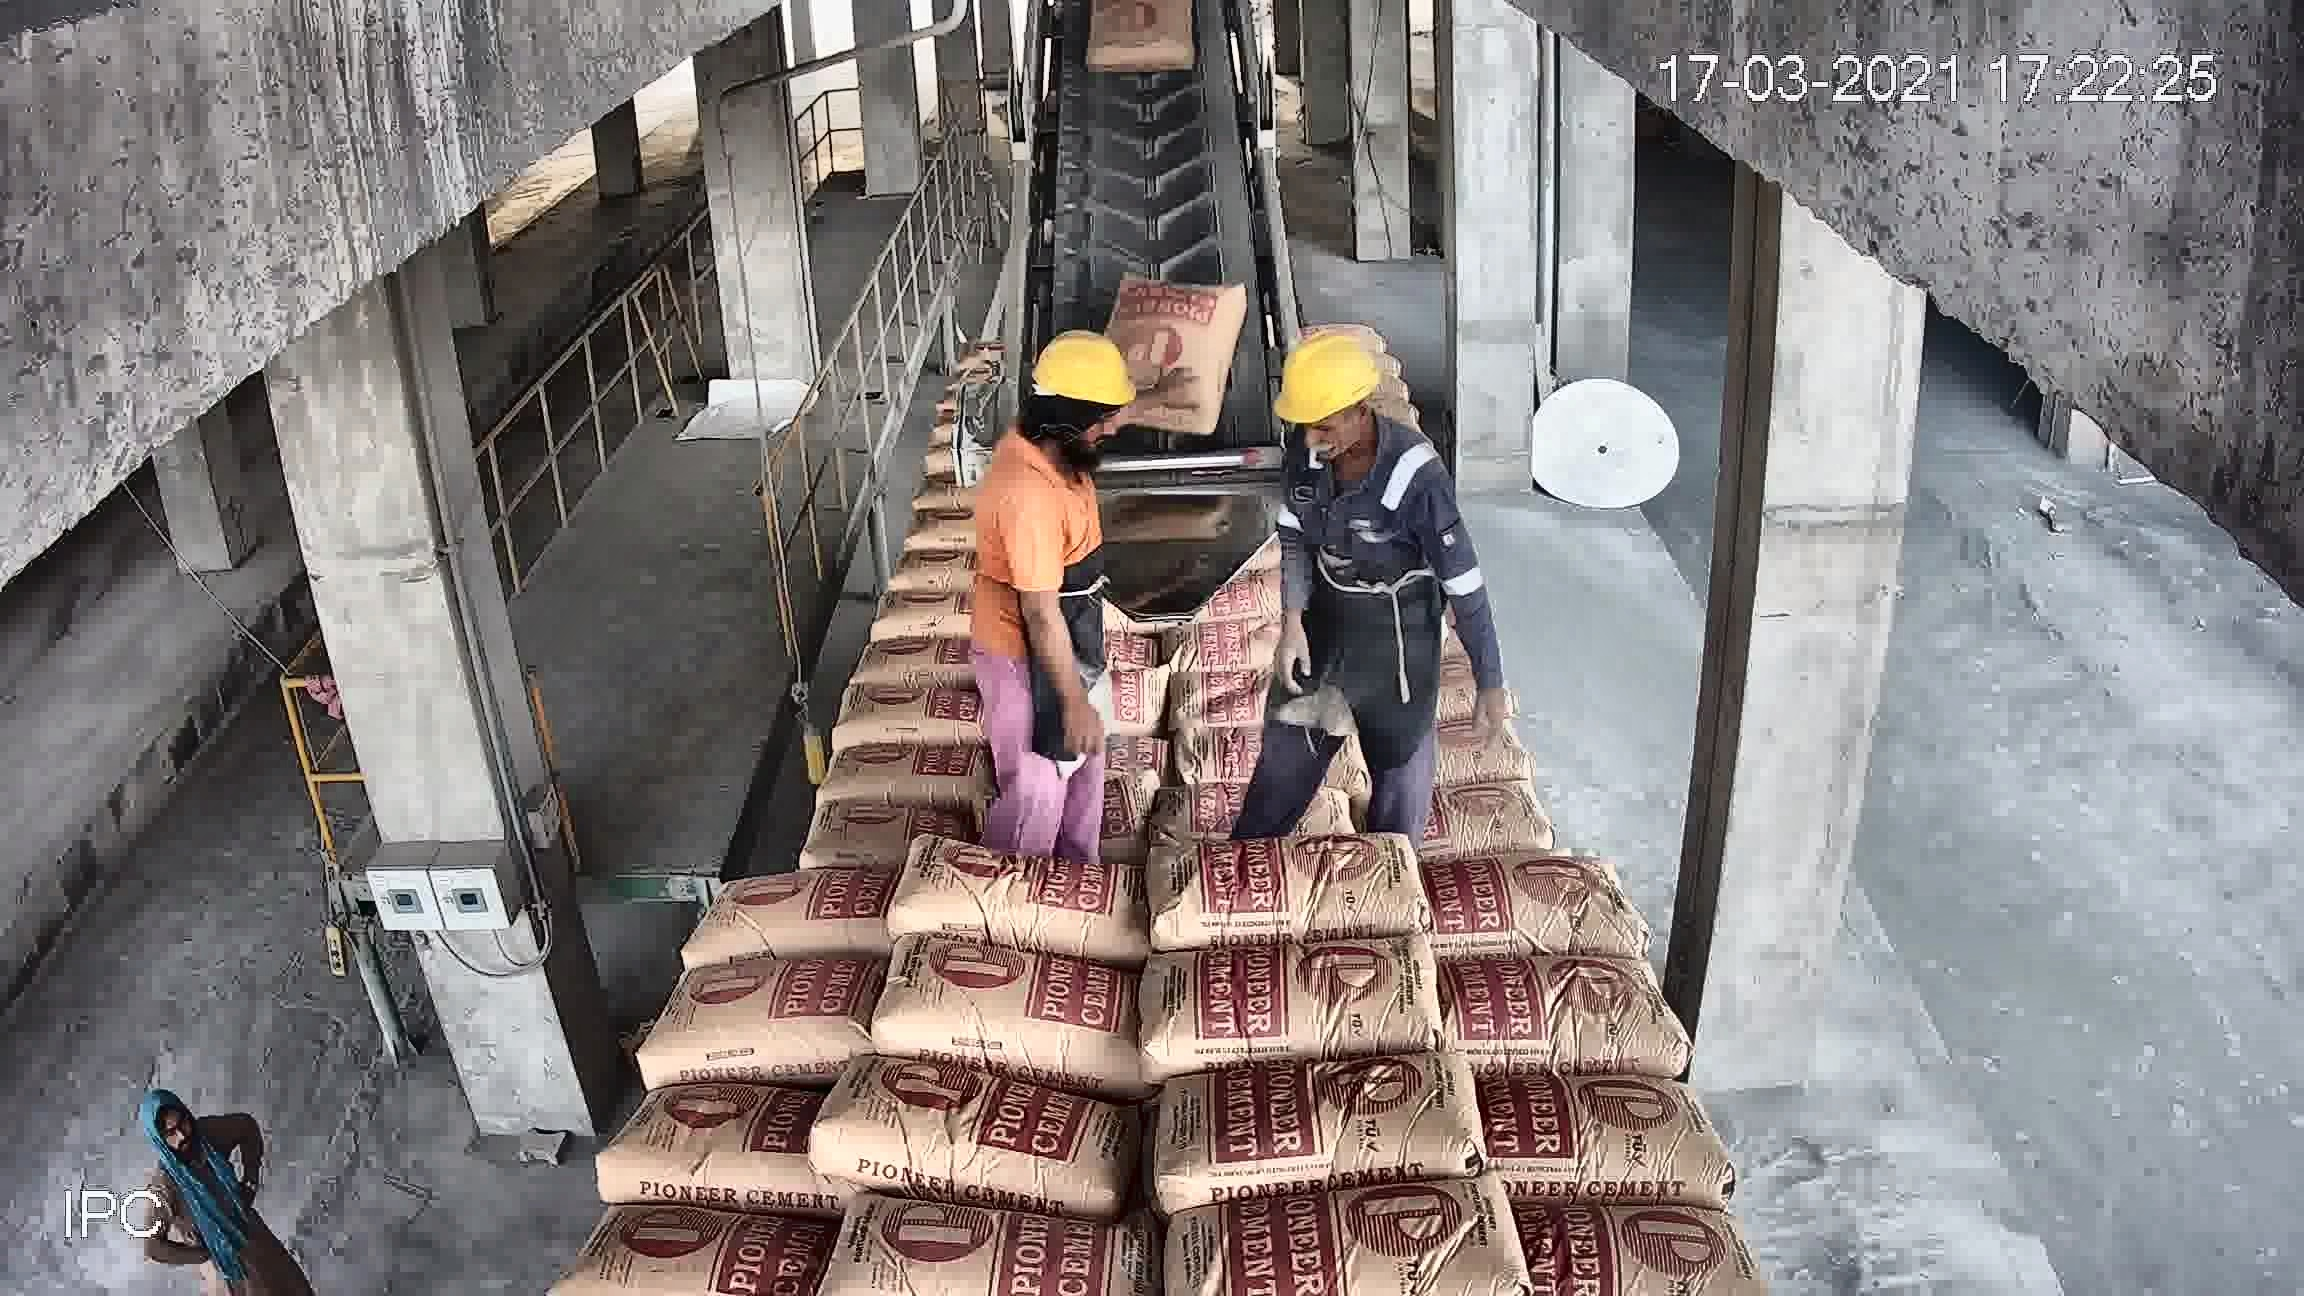bag: (1082, 17, 1195, 54)
bag_h: (1111, 919, 1456, 1092), (1173, 1048, 1475, 1217), (1160, 1163, 1502, 1296), (1100, 824, 1404, 961), (820, 1086, 1127, 1199), (873, 961, 1135, 1092), (1163, 729, 1396, 869), (873, 855, 1157, 961), (824, 1207, 1139, 1296), (1499, 1060, 1696, 1199), (1459, 943, 1657, 1078), (587, 1089, 823, 1201), (888, 763, 1138, 862), (639, 972, 862, 1081), (1521, 1185, 1755, 1283), (1412, 853, 1624, 961), (563, 1204, 804, 1296), (1169, 661, 1385, 760), (679, 870, 885, 970), (913, 682, 1135, 767), (1410, 761, 1598, 858), (744, 699, 929, 790), (722, 786, 881, 881), (1393, 687, 1560, 777), (1032, 525, 1184, 593), (1048, 585, 1188, 638), (1038, 620, 1144, 676)
belt: (1025, 28, 1294, 465)
